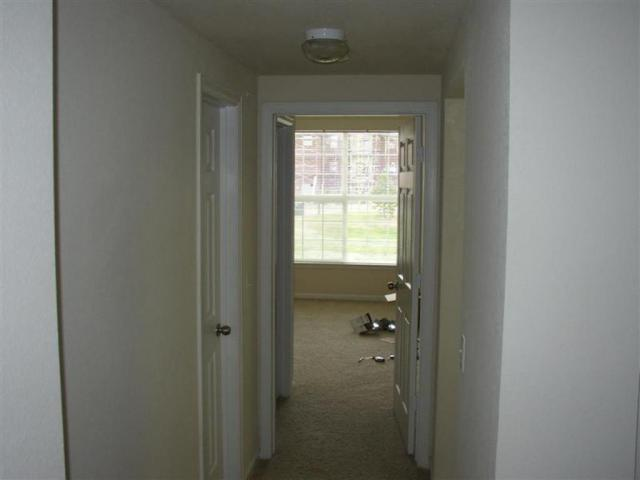Door-handle: (217, 323, 231, 335), (387, 282, 400, 291)
